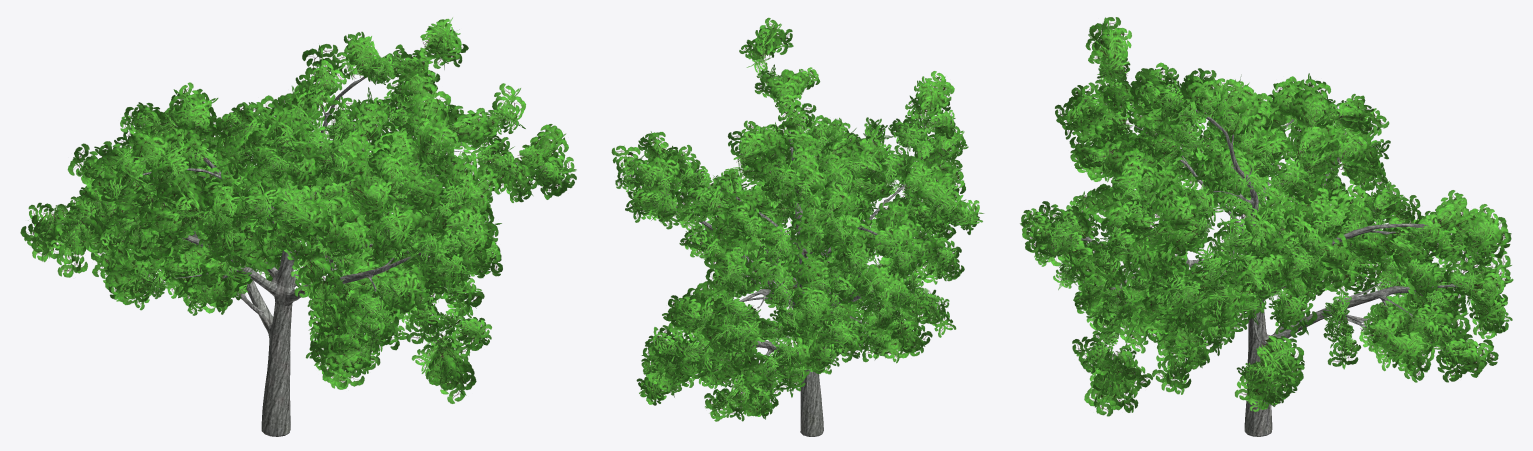
File: ginkgo_tree.glb
3 renders of one model, left to right at view 1: azimuth 30°, elevation 25°; view 2: azimuth 150°, elevation 25°; view 3: azimuth 270°, elevation 25°, orthographic. The views are drawn at different scales.
Visible parts, largest first — view 1: Leaves Green, Tree; view 2: Leaves Green, Tree; view 3: Leaves Green, Tree.
Part boxes in pixels (box(x1,y1,x2,y2)): Leaves Green: box(20, 17, 576, 403); Tree: box(142, 75, 471, 436); Leaves Green: box(611, 17, 983, 421); Tree: box(676, 115, 905, 436); Leaves Green: box(1020, 17, 1513, 416); Tree: box(1078, 109, 1458, 436).
Size of the model in its own units: 102 by 92.87 by 102.
2 materials, 2 textured.
